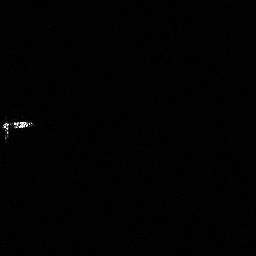ship: (1, 117, 36, 142)
